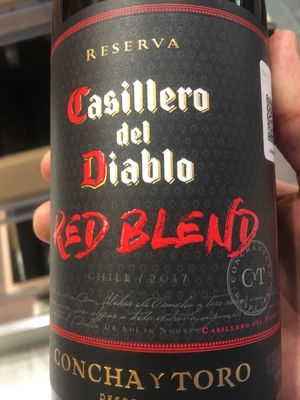casillero del diablo red blend: (45, 9, 283, 400)
